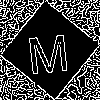M: (25, 25, 71, 75)
